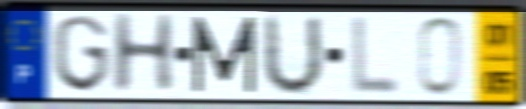0: (414, 13, 469, 100)
G: (50, 12, 112, 95)
H: (108, 11, 178, 97)
L: (347, 14, 403, 99)
M: (189, 14, 259, 96)
U: (259, 11, 326, 99)
